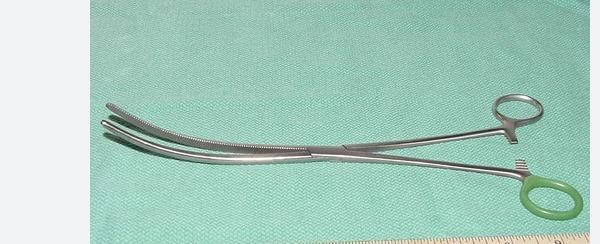Doyel Instestinal Forceps: (94, 89, 585, 223)
